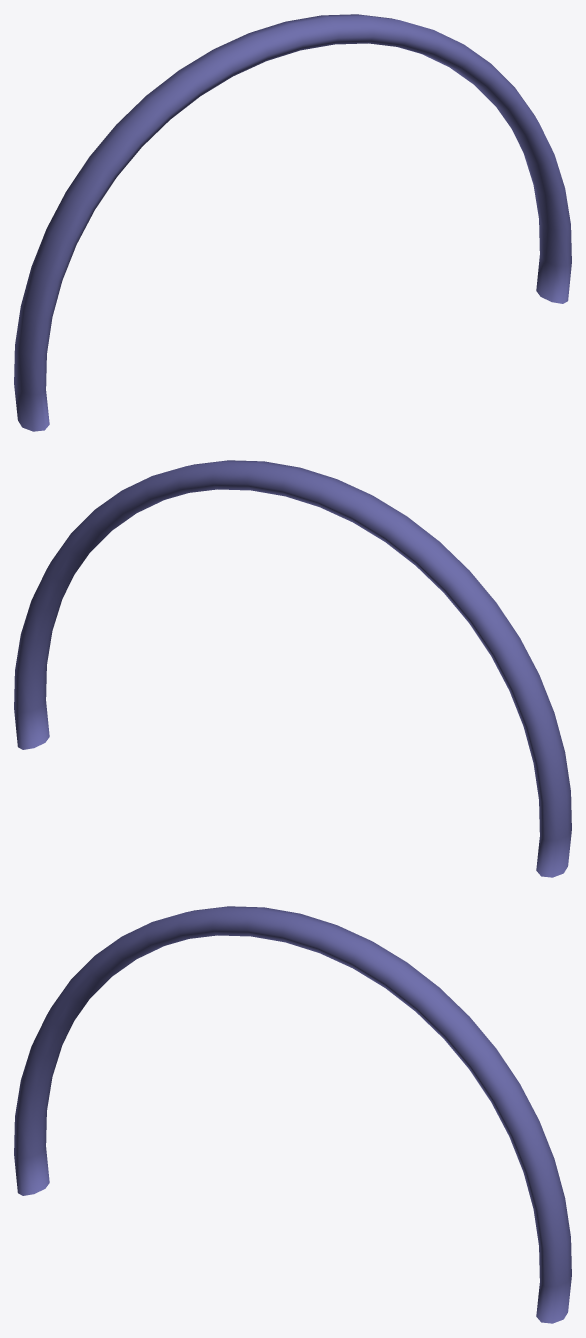
The model's file is acc_headband.glb.
3 renders of one model, top to bottom at view 1: azimuth 30°, elevation 25°; view 2: azimuth 150°, elevation 25°; view 3: azimuth 330°, elevation 25°, orthographic.
Visible parts, largest first — view 1: acc_headband; view 2: acc_headband; view 3: acc_headband.
Part boxes in pixels (x1,y1,x2,y2): acc_headband: (14, 14, 571, 431); acc_headband: (14, 460, 571, 877); acc_headband: (14, 906, 571, 1323).
Size of the model in its own units: 0.2096 by 0.1231 by 0.0144.
